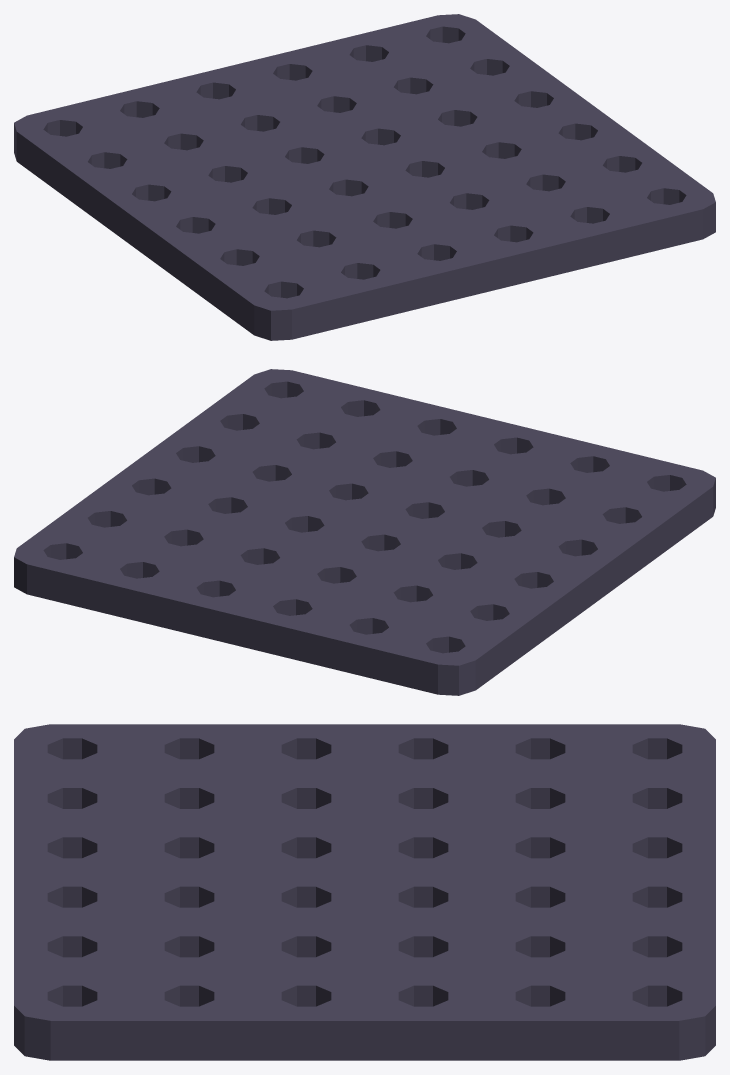
Rendered from Dungeon_Trap_empty.glb.
3 renders of one model, top to bottom at view 1: azimuth 30°, elevation 25°; view 2: azimuth 150°, elevation 25°; view 3: azimuth 270°, elevation 25°, orthographic. The views are drawn at different scales.
Parts seen in each view (by area): view 1: Trap_empty; view 2: Trap_empty; view 3: Trap_empty.
Part boxes in pixels (x1,y1,x2,y2): Trap_empty: [14, 14, 715, 340]; Trap_empty: [14, 369, 715, 695]; Trap_empty: [14, 724, 715, 1060].
Size of the model in its own units: 1.99 by 0.1248 by 1.99.
